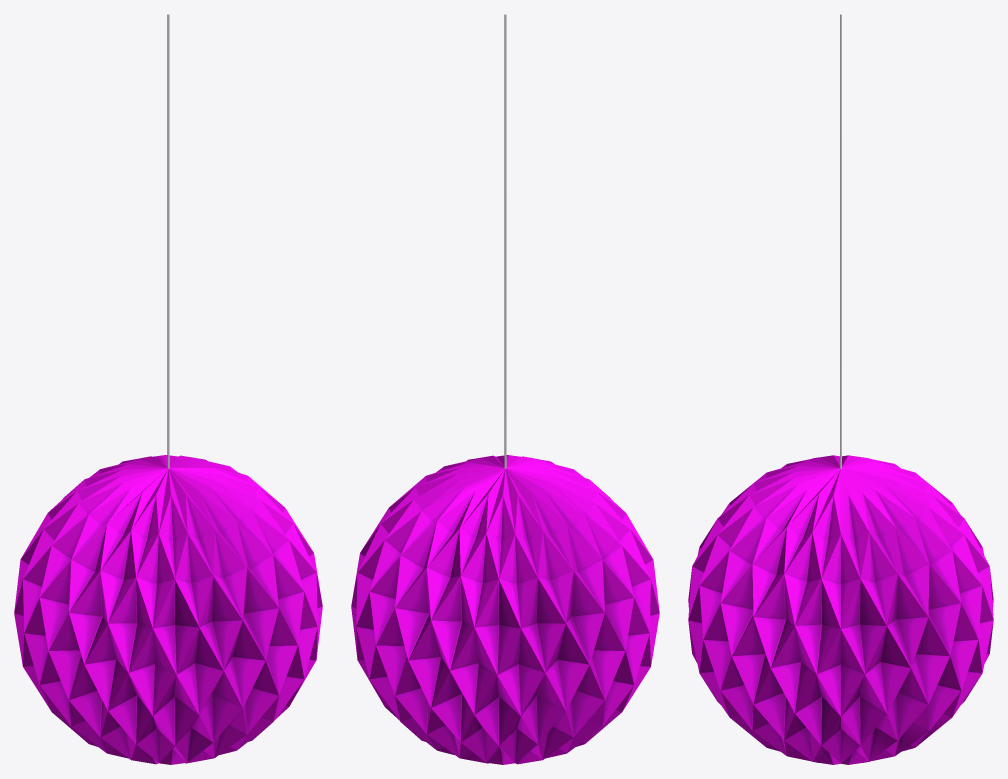
The model's file is PartyHangings01D_3.FBX.
3 views of the same model, side by side, from view 1: azimuth 30°, elevation 25°; view 2: azimuth 150°, elevation 25°; view 3: azimuth 270°, elevation 25° (orthographic).
Parts seen in each view (by area): view 1: PartyHangings01D_3; view 2: PartyHangings01D_3; view 3: PartyHangings01D_3.
Part boxes in pixels (bbox=[...]): PartyHangings01D_3: bbox=[14, 14, 322, 764]; PartyHangings01D_3: bbox=[351, 14, 659, 764]; PartyHangings01D_3: bbox=[688, 14, 993, 764].
Size of what is drawn, in the model's own units: 0.3614 by 0.963 by 0.3614.
